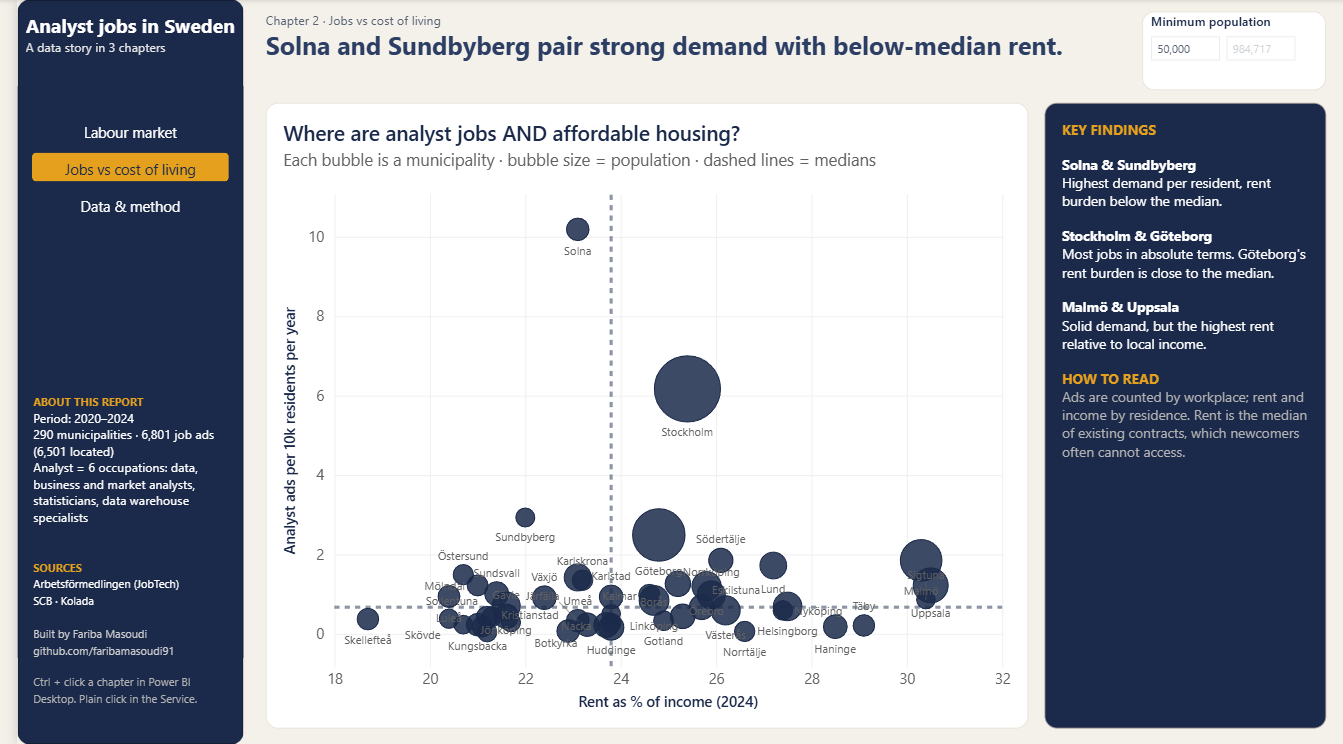

The page's visual inventory and layout, read from the dashboard file:
{"tool":"powerbi","page":{"name":"Jobs vs cost of living","canvas":[1280,720],"ordinal":1},"visuals":[{"type":"scatterChart","title":"Where are analyst jobs AND affordable housing?","fields":{"Category":["dim_municipality.municipality_name"],"Size":["Sum(municipality_summary.avg_population)"],"X":["Sum(municipality_summary.rent_pct_of_income_2024)"],"Y":["Sum(municipality_summary.ads_per_10k_per_year)"]},"box":[240,100,736,604],"z":0},{"type":"slicer","fields":{"Values":["municipality_summary.avg_population"]},"box":[1085.8,12.1,177.3,76],"z":1000},{"type":"textbox","box":[992,100,272,604],"z":2000},{"type":"textbox","box":[240.1,12.1,784.2,76],"z":3000},{"type":"shape","box":[0,0,219.6,720.2],"z":4000},{"type":"textbox","box":[8.4,13.3,211.1,76],"z":5000},{"type":"pageNavigator","box":[14.5,112.2,190,100],"z":6000},{"type":"textbox","box":[16,650,190,50],"z":7000},{"type":"textbox","box":[16,380,190,260],"z":8000}]}

Visuals, with their boxes on the page's 1280x720 design canvas (x1, y1, x2, y2). These are canvas units, not pixel positions in the 1343x744 screenshot, which may show the page scaled, cropped or inside an application window:
"Where are analyst jobs AND affordable housing?" scatterChart: <bbox>240, 100, 976, 704</bbox>
slicer - municipality_summary.avg_population: <bbox>1086, 12, 1263, 88</bbox>
textbox: <bbox>992, 100, 1264, 704</bbox>
textbox: <bbox>240, 12, 1024, 88</bbox>
shape: <bbox>0, 0, 220, 720</bbox>
textbox: <bbox>8, 13, 220, 89</bbox>
pageNavigator: <bbox>14, 112, 204, 212</bbox>
textbox: <bbox>16, 650, 206, 700</bbox>
textbox: <bbox>16, 380, 206, 640</bbox>
